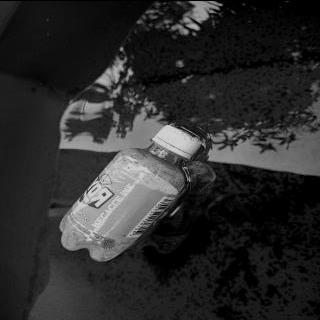bottle: (56, 121, 202, 262)
